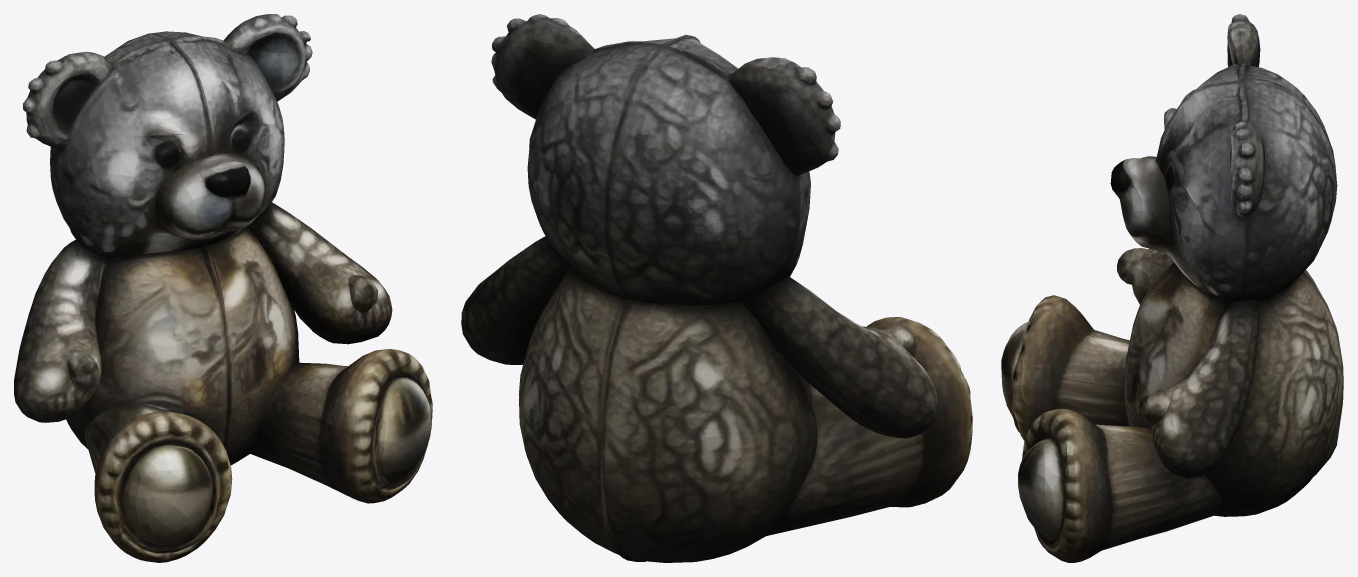
File: teddy-bear.glb
3 views of the same model, side by side, from view 1: azimuth 30°, elevation 25°; view 2: azimuth 150°, elevation 25°; view 3: azimuth 270°, elevation 25° (orthographic). The views are drawn at different scales.
Parts seen in each view (by area): view 1: world; view 2: world; view 3: world.
Part boxes in pixels (left/top/right/bottom): world: left=14, top=14, right=432, bottom=562; world: left=461, top=14, right=972, bottom=562; world: left=1001, top=14, right=1343, bottom=562.
Size of the model in its own units: 0.9093 by 0.9987 by 0.7152.
1 material, 1 textured.
